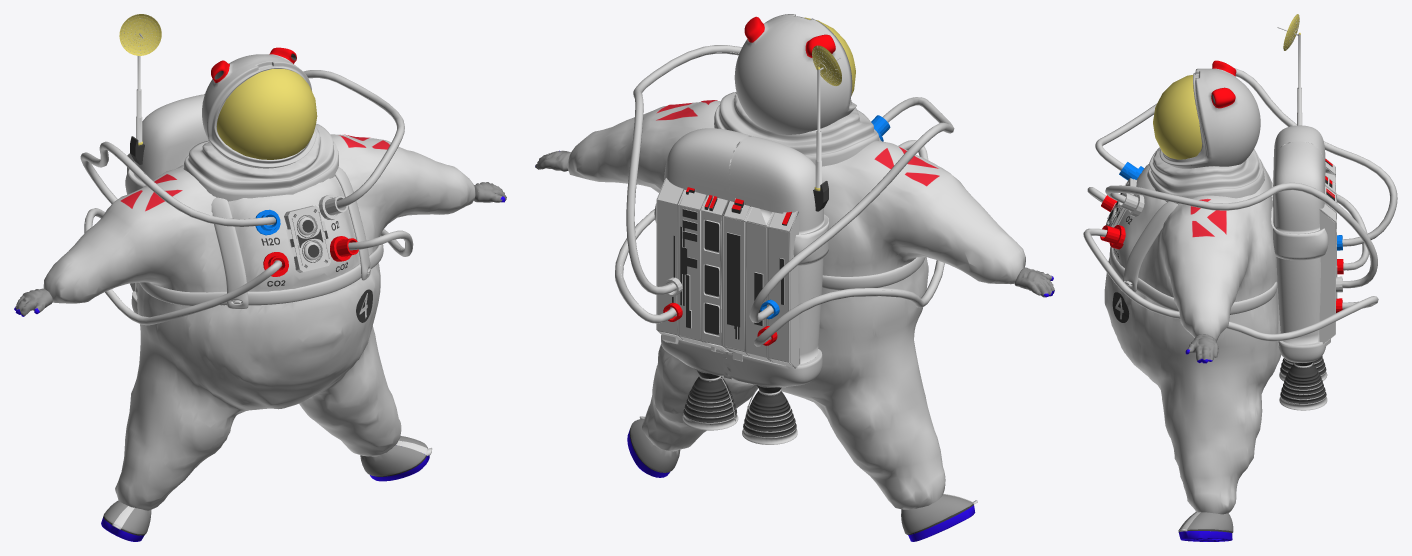
Rendered from bob.glb.
3 views of the same model, side by side, from view 1: azimuth 30°, elevation 25°; view 2: azimuth 150°, elevation 25°; view 3: azimuth 270°, elevation 25° (orthographic). The views are drawn at different scales.
Visible parts, largest first — view 1: Cube.009, Cube.001, Cube.010; view 2: Cube.009, Cube.010, Cube.001; view 3: Cube.009, Cube.010.
Boxes of the visible parts, x1,y1,x2,y2 form: Cube.009: (14, 47, 506, 541); Cube.001: (119, 14, 161, 55); Cube.010: (120, 134, 389, 211); Cube.009: (535, 14, 1054, 541); Cube.010: (656, 100, 939, 186); Cube.001: (812, 45, 841, 85); Cube.009: (1083, 32, 1397, 541); Cube.010: (1190, 198, 1226, 237).
Size of the model in its own units: 5.3 by 5.02 by 3.24.
9 materials, 1 textured.
